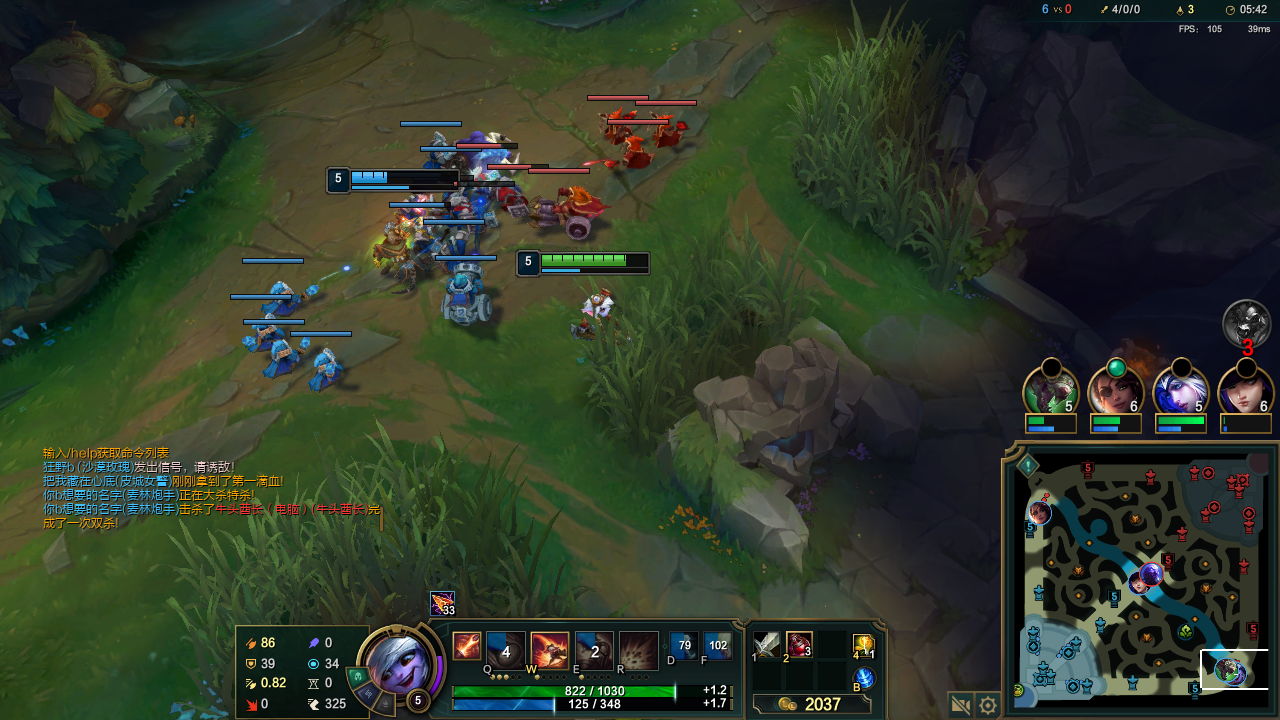DFXB: (521, 184, 622, 256), (604, 132, 658, 177), (489, 176, 537, 221), (644, 104, 691, 147), (596, 104, 638, 145)
WFXB: (430, 261, 506, 334), (301, 345, 357, 395), (261, 334, 316, 382), (424, 233, 483, 274), (259, 275, 317, 314), (412, 137, 468, 176), (242, 318, 293, 358)
